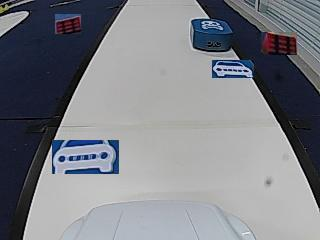danger: (201, 20, 222, 30)
